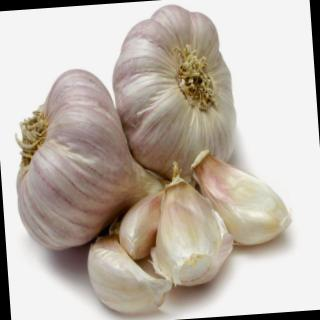Bawang Putih: (106, 1, 254, 194)
